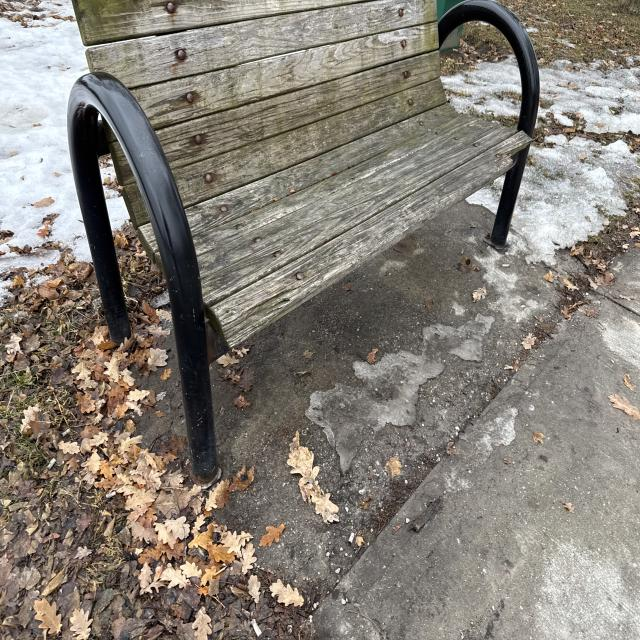Bench: (60, 0, 317, 473), (199, 8, 548, 240)
